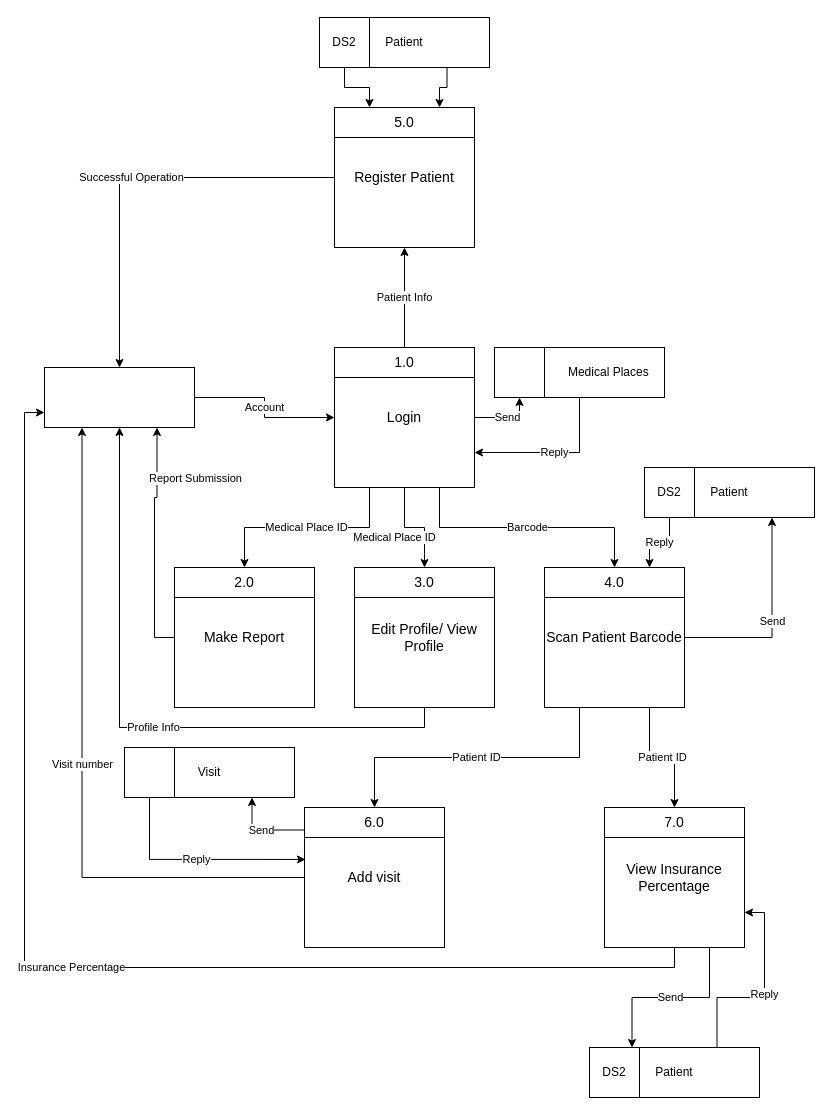
Some shapes in this 832 by 1115 pixel diagram are drawn without their labels. Each missing label, with the centre of its shape:
DS1: [519,372]
DS3: [149,772]
Medical Place: [119,397]
